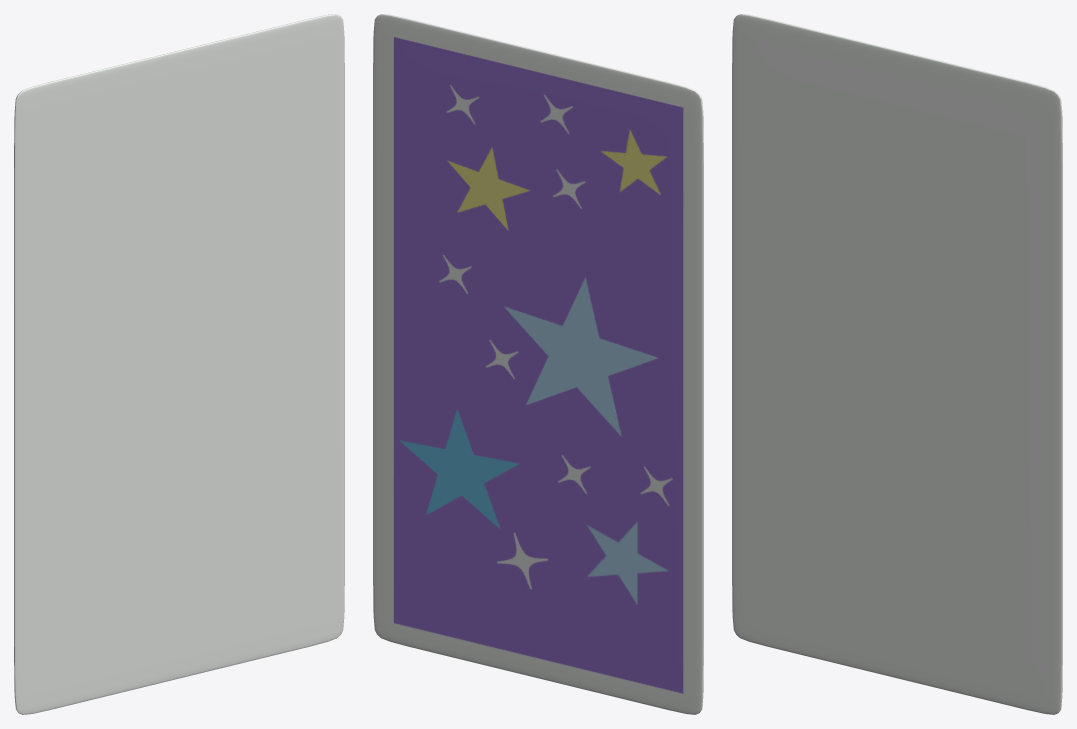
The model's file is playing_card.glb.
3 views of the same model, side by side, from view 1: azimuth 30°, elevation 25°; view 2: azimuth 150°, elevation 25°; view 3: azimuth 330°, elevation 25° (orthographic).
Visible parts, largest first — view 1: playing_card; view 2: playing_card; view 3: playing_card.
Part boxes in pixels (x1=…): playing_card: x1=14, y1=14, x2=344, y2=714; playing_card: x1=373, y1=14, x2=703, y2=714; playing_card: x1=732, y1=14, x2=1062, y2=714.
Size of the model in its own units: 0.1339 by 0.2432 by 0.00102.
1 material, 1 textured.
